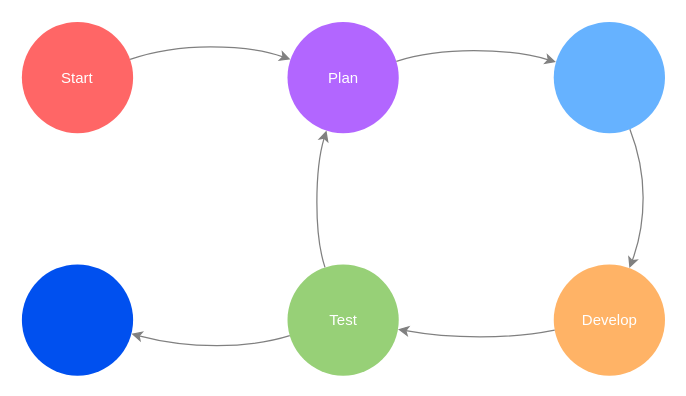
The diagram is 686 pixels wide and 396 high, and some of its shapes have lost their labels. Here are the shapes that lost their labels. From the top down, the centre of each, then its label:
At point (608, 76): "Design".
At point (76, 319): "Deploy".
